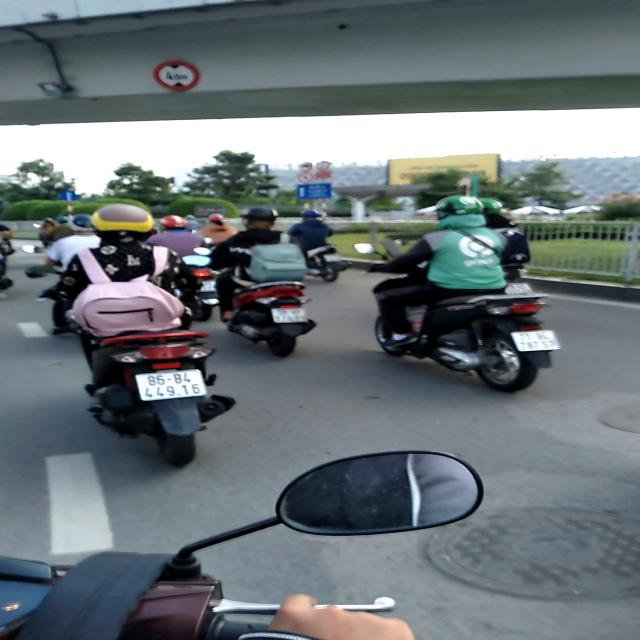Chieu cao toi da: (152, 60, 201, 91)
